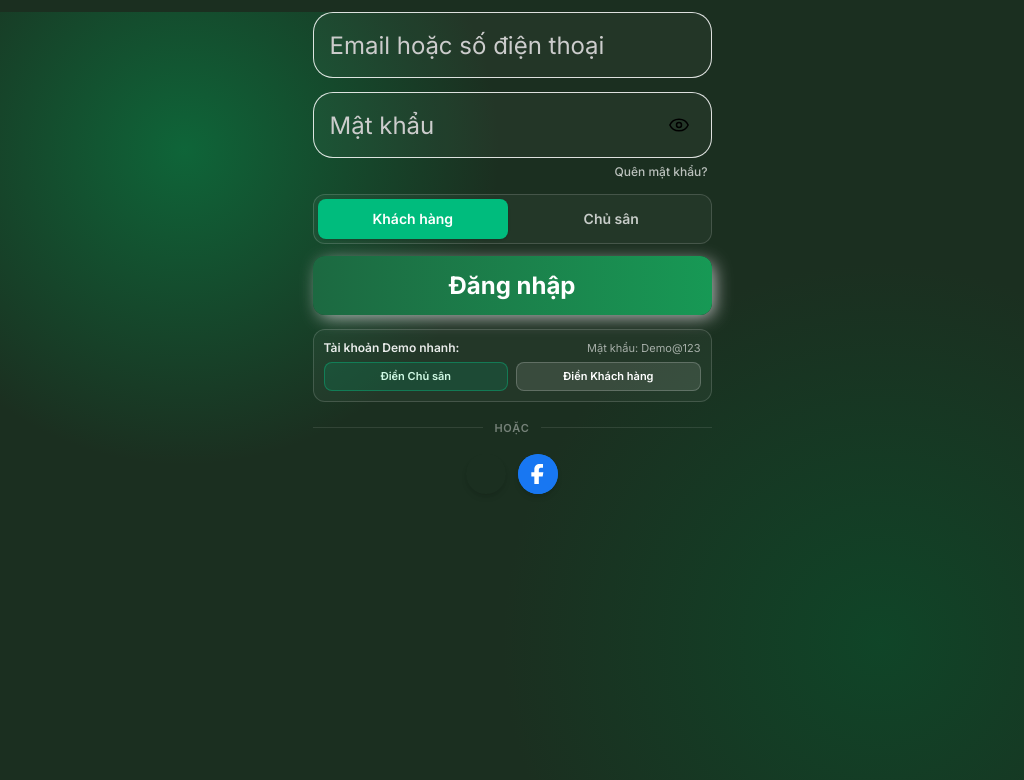
it: LoginForm › shows validation errors when submitting empty form
The width and height of the screenshot is (1024, 780).
Click the button "Đăng nhập": (512, 286) [312, 256, 712, 315]
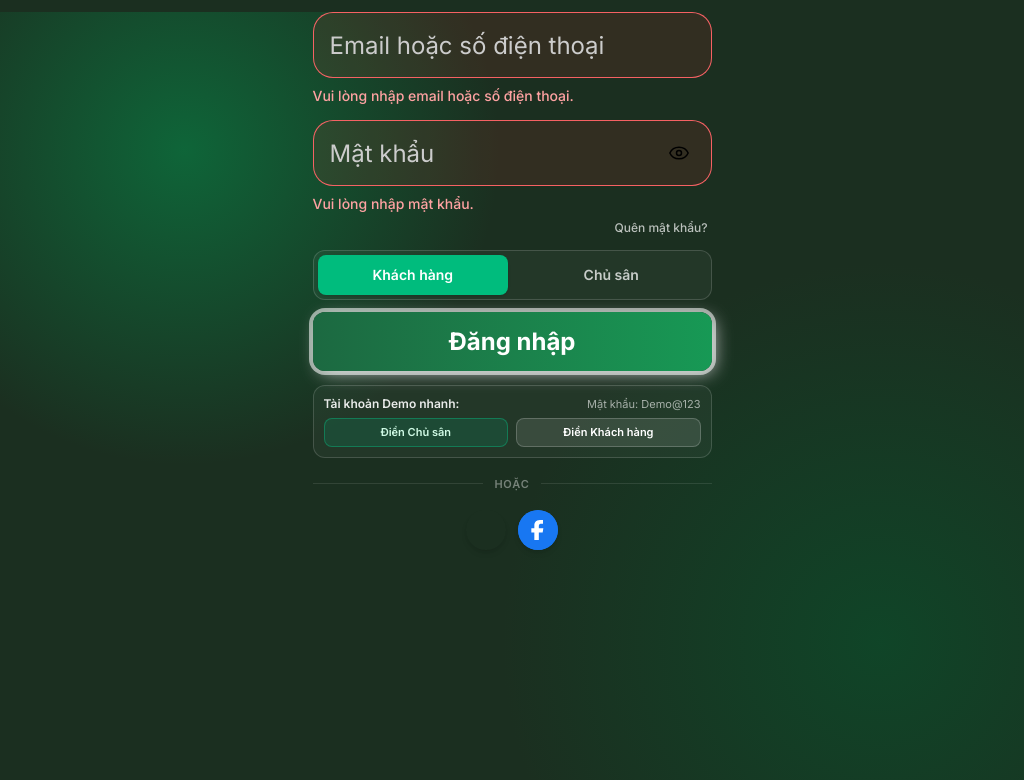
Check: the text "Vui lòng nhập email hoặc số điện thoại." is shown, box [312, 87, 574, 104]
Check: the text "Vui lòng nhập mật khẩu." is shown, box [312, 195, 474, 212]
